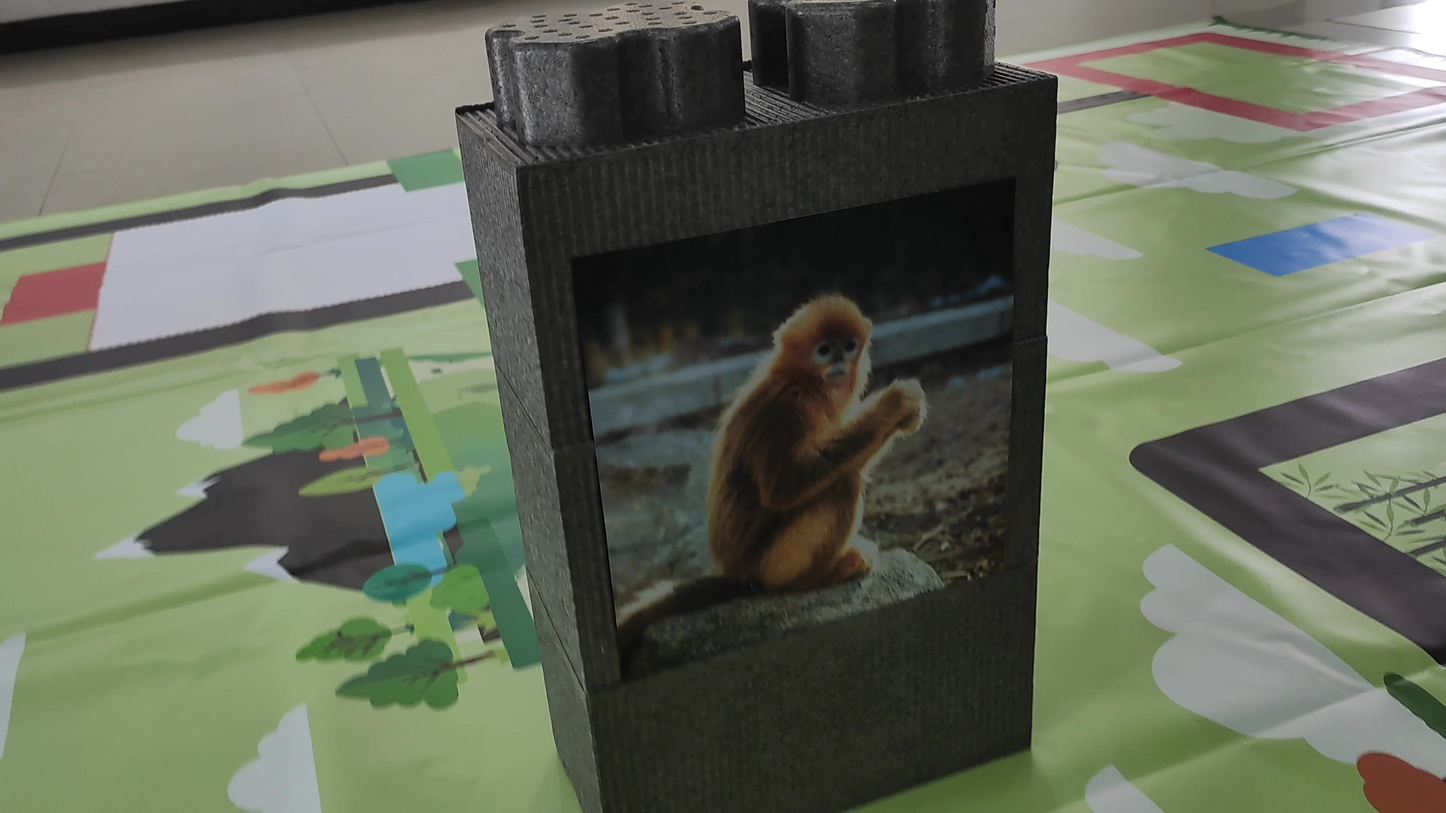monkey: (690, 280, 955, 596)
